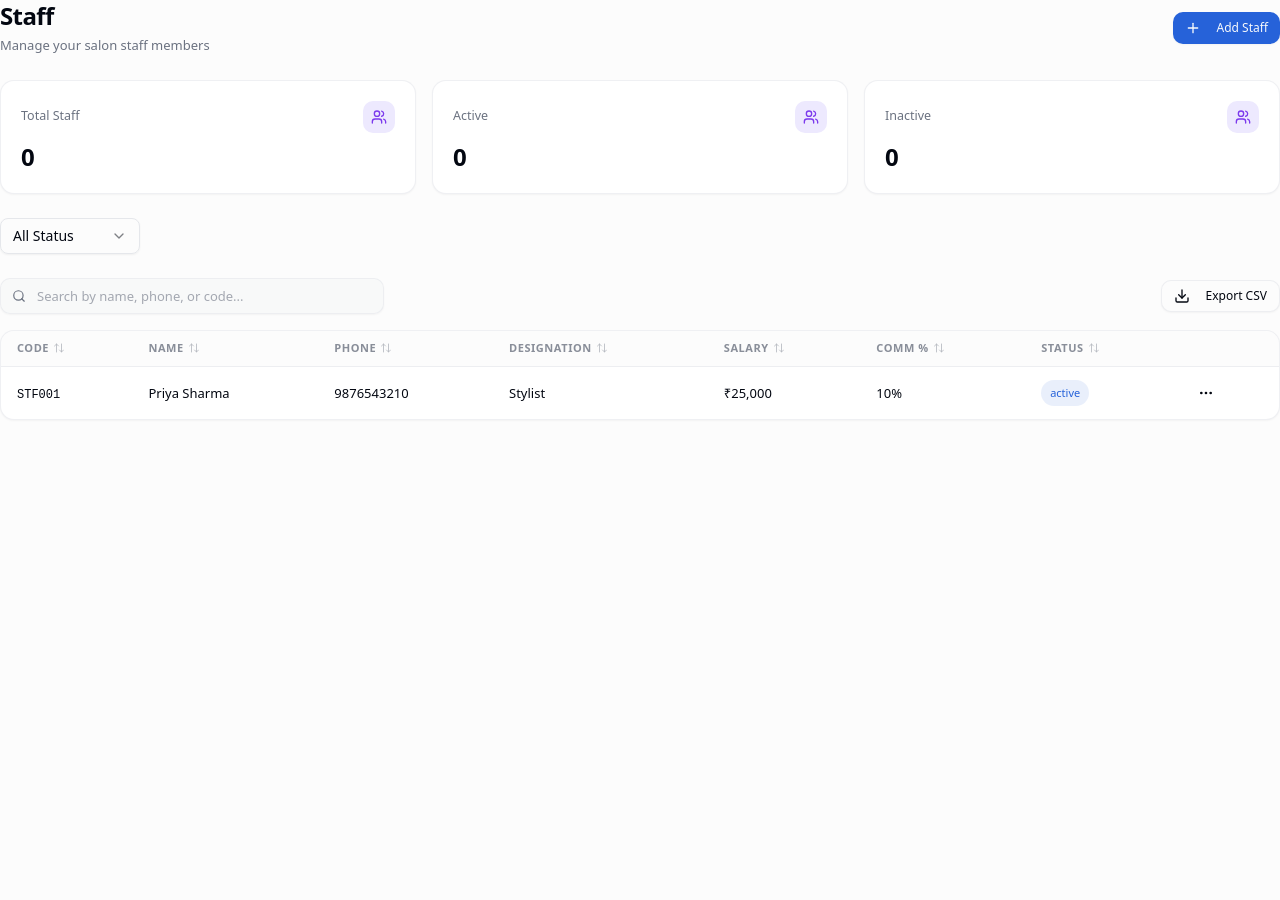
Test: StaffPage › opens form dialog when Add Staff clicked
The width and height of the screenshot is (1280, 900).
Click the button "Add Staff": (1226,28) [1172, 12, 1279, 44]
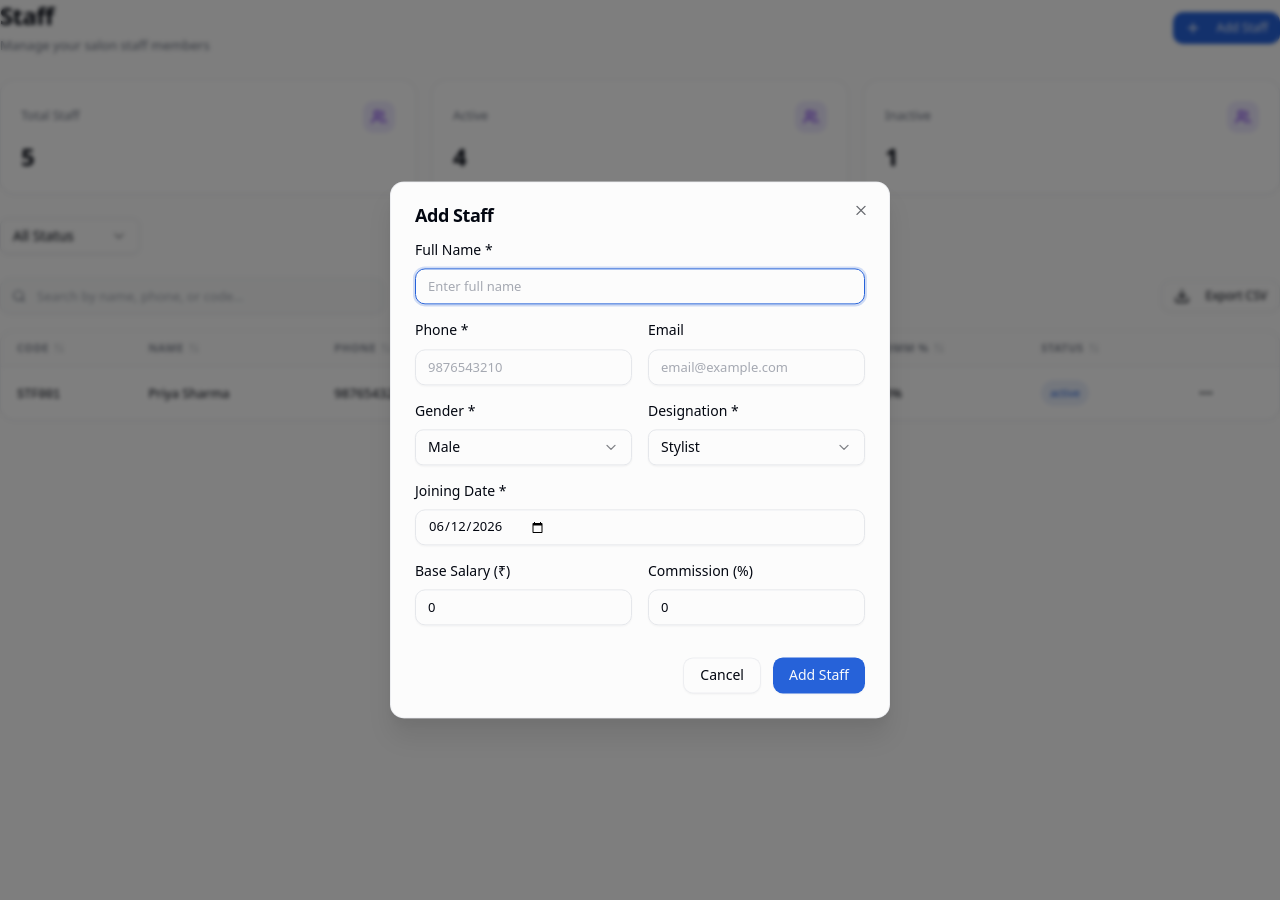
Check: the field labelled "Full Name *" is shown, box [415, 269, 865, 305]
